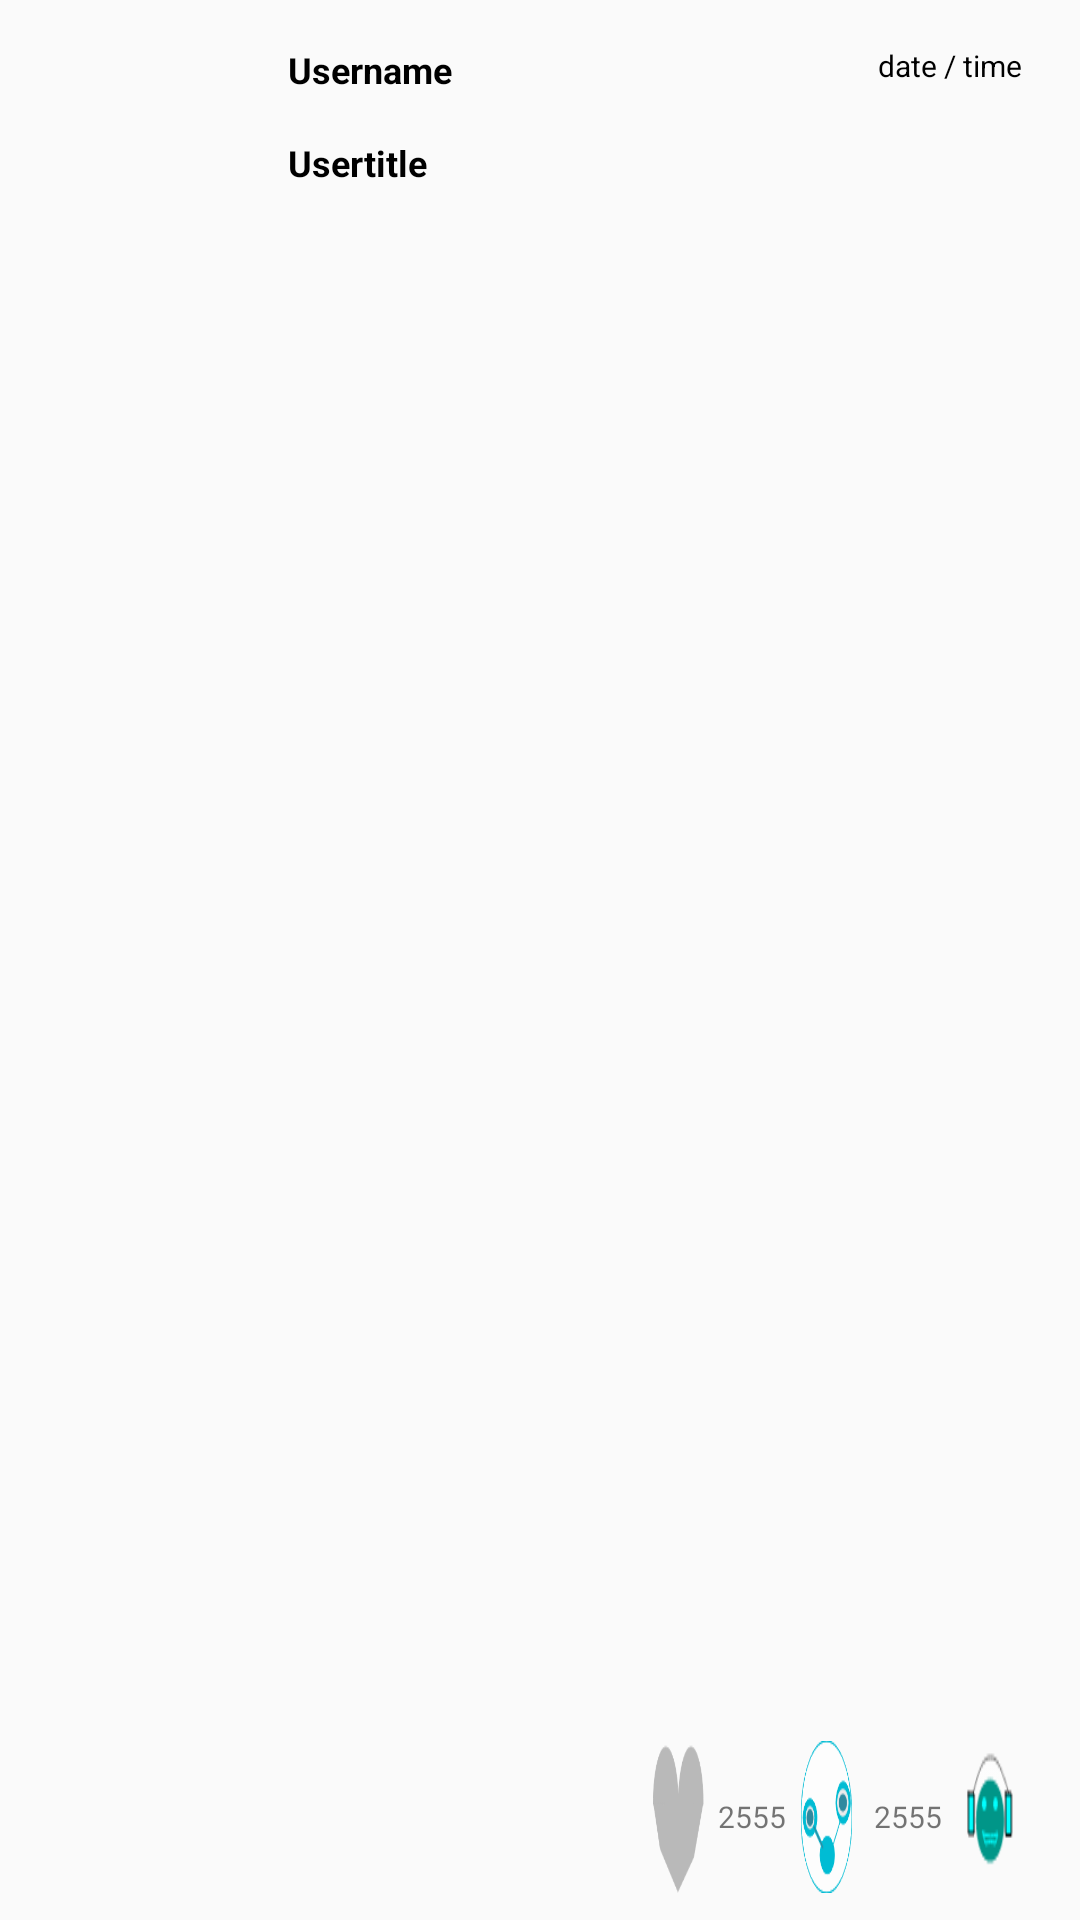

Screen size 1080*1920. Icon name, then its center in pixels as (x,y):
like: (678,1819)
listen: (990,1809)
share: (826,1817)
